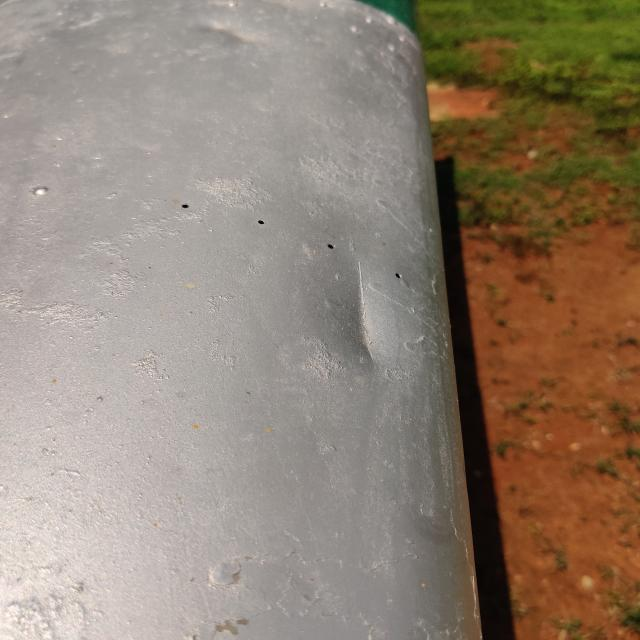dent: (303, 235, 426, 390), (173, 0, 282, 79)
